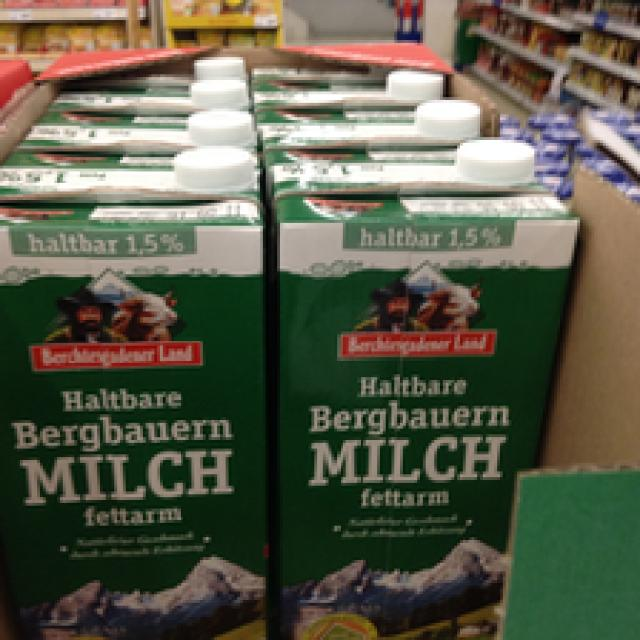groceries: (271, 140, 583, 637), (0, 152, 263, 637)
